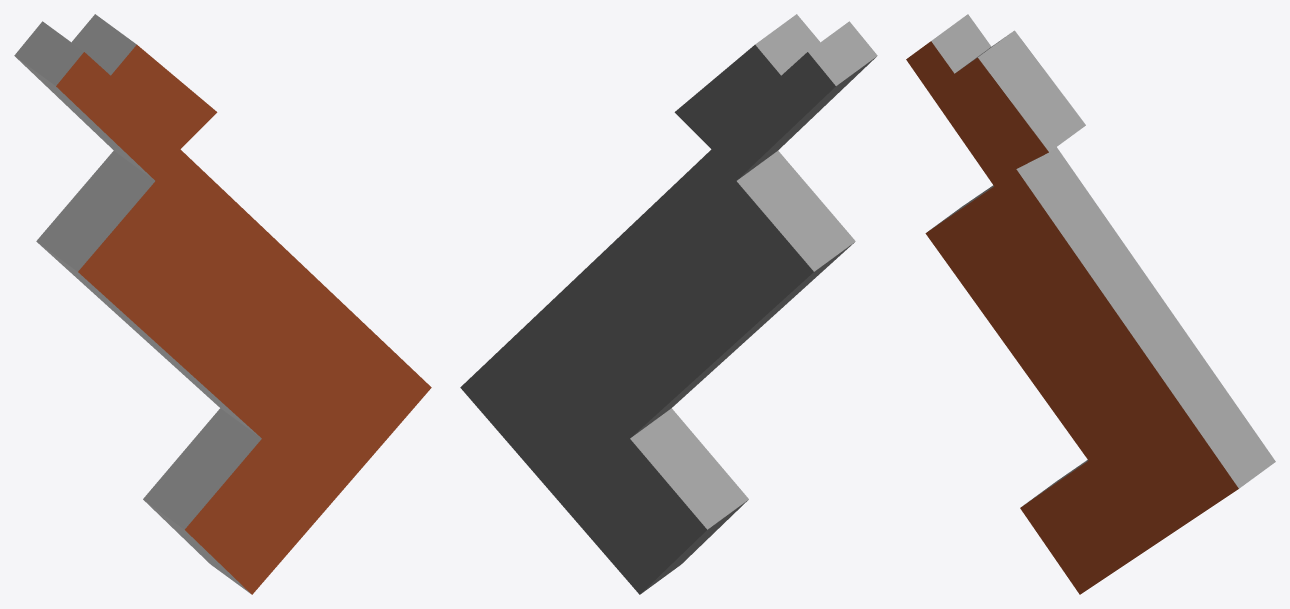
File: construction_4040_assumed_A_Casa_h6m.obj
3 renders of one model, left to right at view 1: azimuth 30°, elevation 25°; view 2: azimuth 150°, elevation 25°; view 3: azimuth 330°, elevation 25°, orthographic. The views are drawn at different scales.
Visible parts, largest first — view 1: construction_4040_assumed_A_Casa; view 2: construction_4040_assumed_A_Casa; view 3: construction_4040_assumed_A_Casa.
Boxes of the visible parts, <box> form: construction_4040_assumed_A_Casa: <box>14,14,431,594</box>; construction_4040_assumed_A_Casa: <box>460,14,877,594</box>; construction_4040_assumed_A_Casa: <box>906,14,1275,594</box>.
Bounding box in the file's own units: 31.2 × 46.34 × 6.
